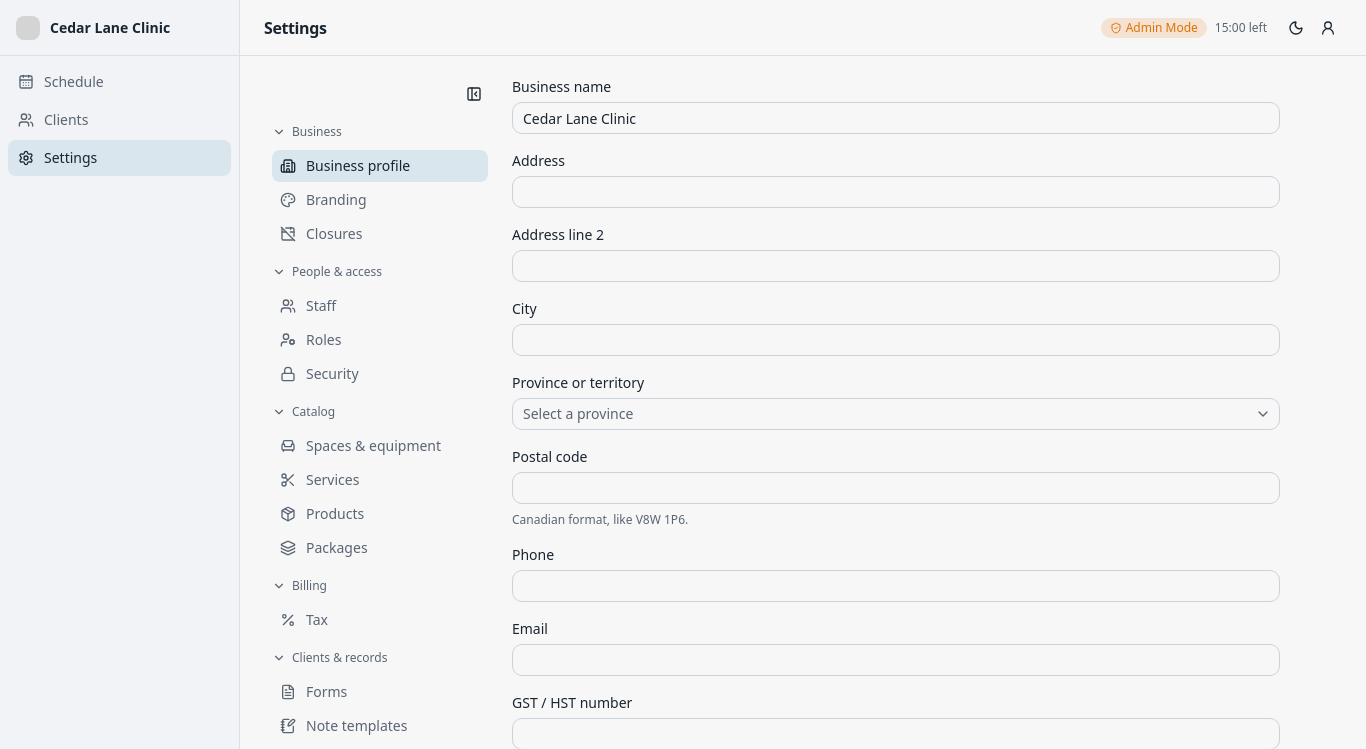
Test: a colour whose text falls below 4.5:1 warns, and is still allowed
This screenshot has width=1366, height=749.
Click the button "Branding" at (380, 200), box left=272, top=184, right=488, bottom=216
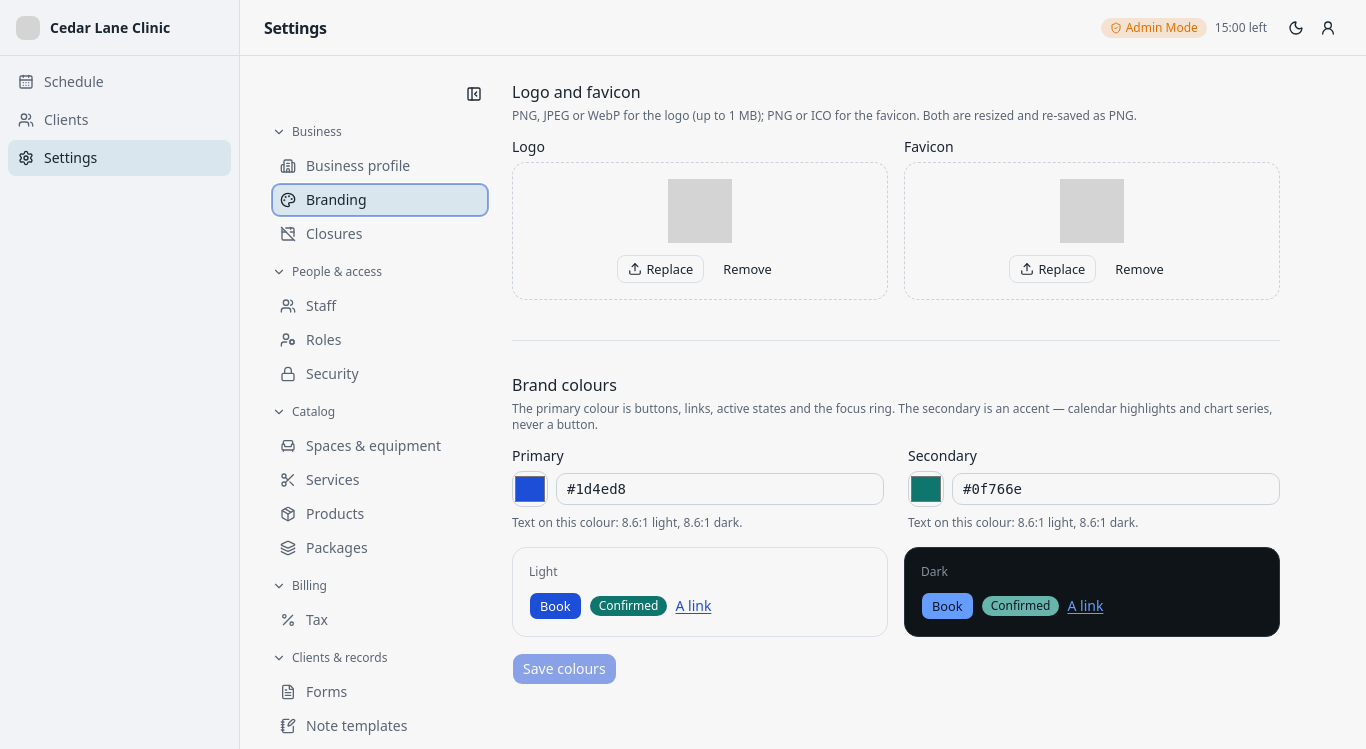
Now the text "Text on this colour: 8.6:1 light, 8.6:1 dark." is shown 2 times, box left=512, top=514, right=742, bottom=531; left=908, top=514, right=1138, bottom=531
Replace the text in the field labelled "Primary" with "#7a7a7a" at (720, 489), box left=556, top=473, right=884, bottom=505
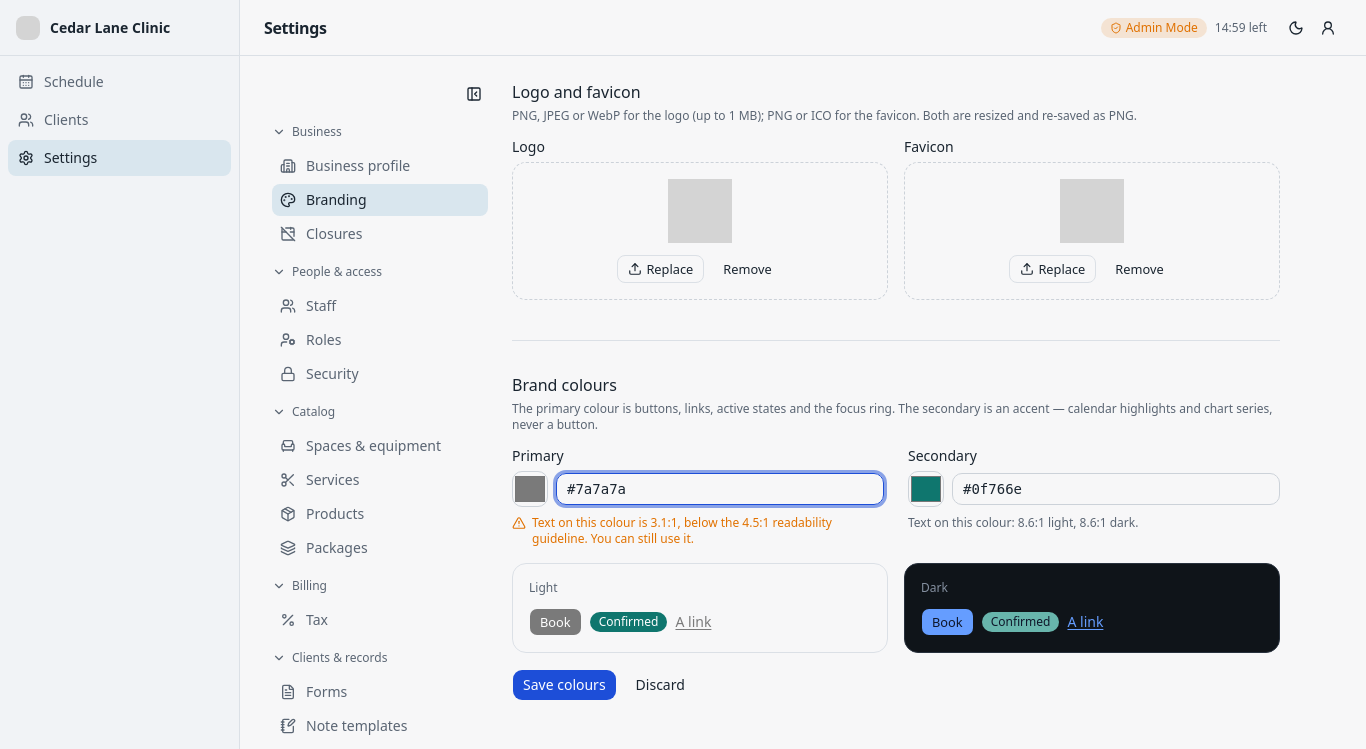
Now the message shows "3.1:1, below the 4.5:1 readability guideline", box left=512, top=515, right=884, bottom=547
Now the button "Save colours" is enabled, box left=512, top=669, right=617, bottom=701
